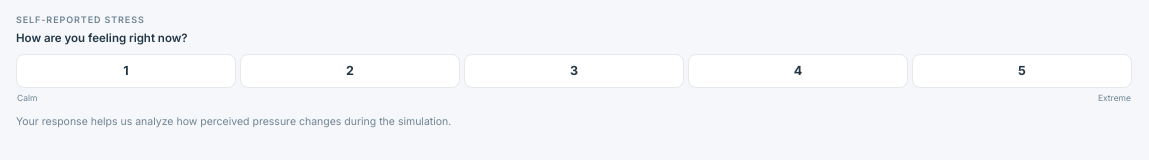
Test: StressWidget › shows a generic, non-alarming error message on a server/network failure
Click the radio button named "1 - Calm".
click(126, 71)  # box x1=16 y1=54 x2=236 y2=88
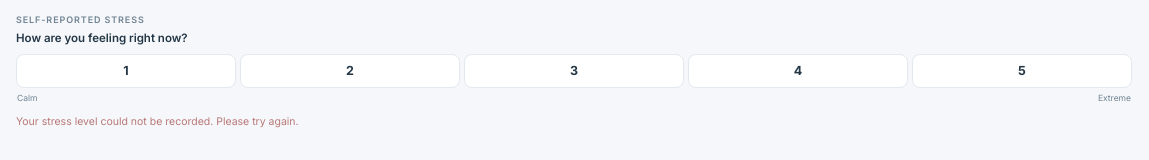
expect the text "Your stress level could not be recorded. Please try again." is shown: met, box x1=16 y1=115 x2=299 y2=128
